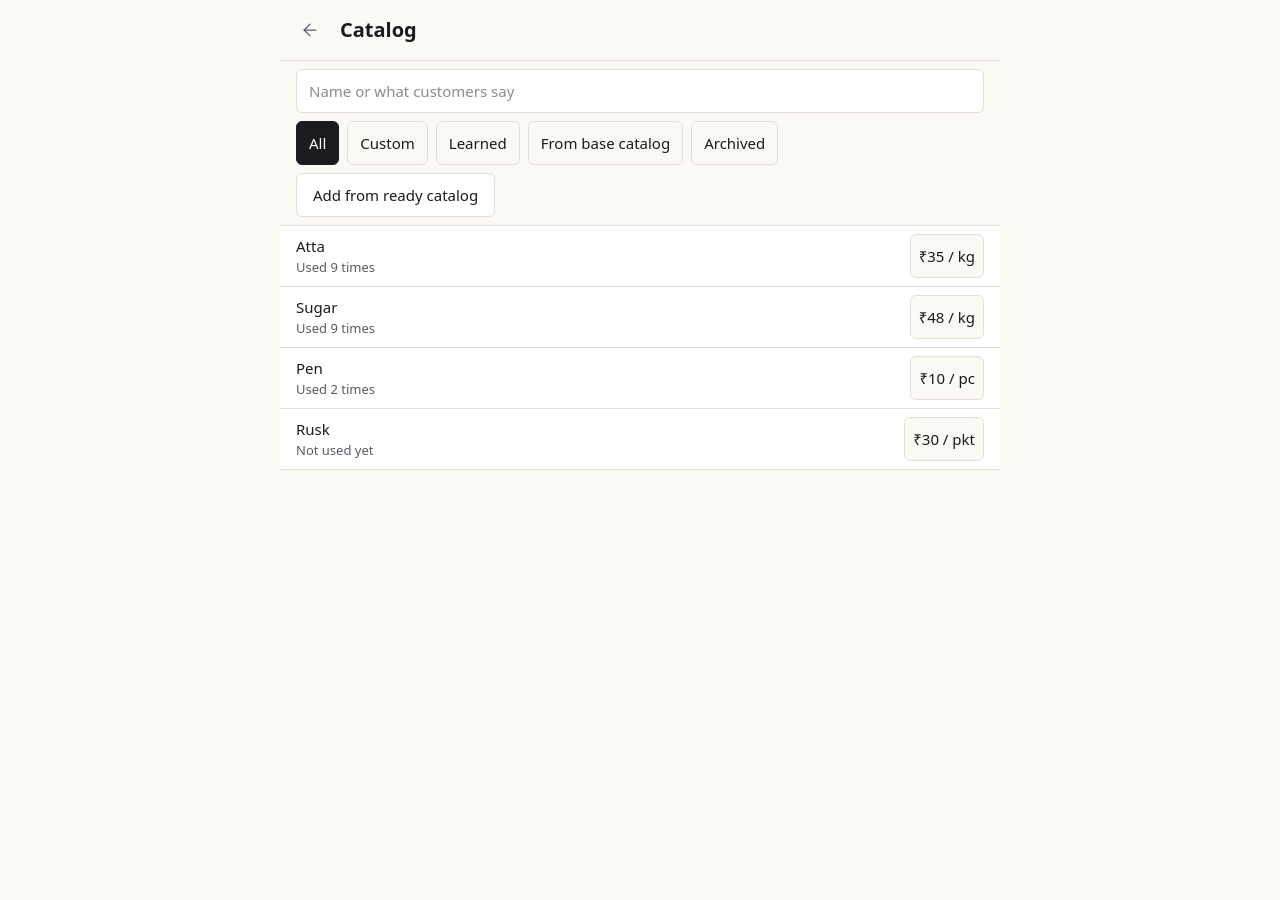
Test: KB-311 - S4 Catalog › a failed save says so and the price stays as it was - the screen never writes the price itself
This screenshot has width=1280, height=900.
Expected: the list named "Products" is shown, x1=280 y1=226 x2=1000 y2=470
Click the button with aria-label "Price of Sugar" at [947, 317], box x1=910 y1=295 x2=984 y2=339
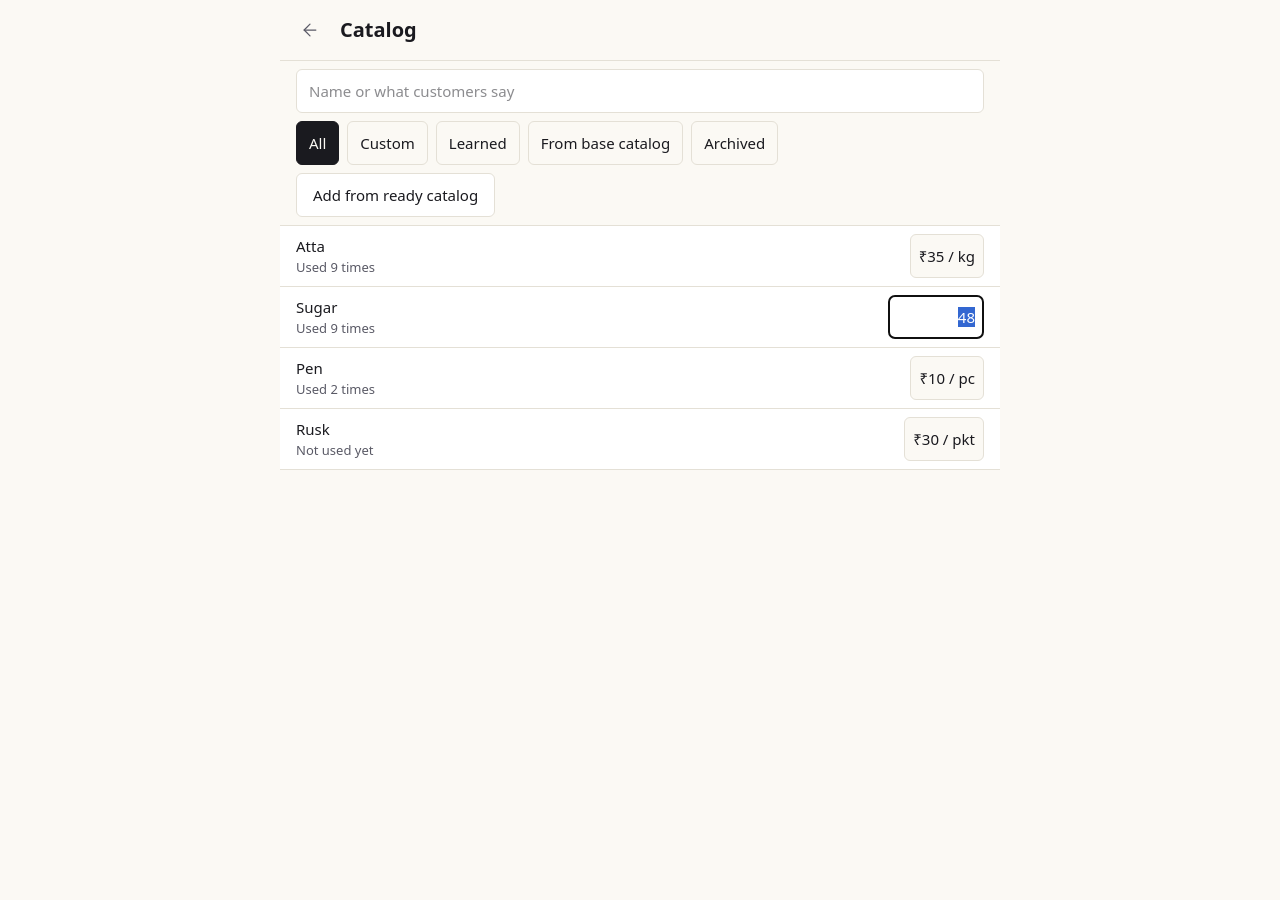
Replace the text in the field named "Price of Sugar" with "60" at [936, 317], box x1=888 y1=295 x2=984 y2=339
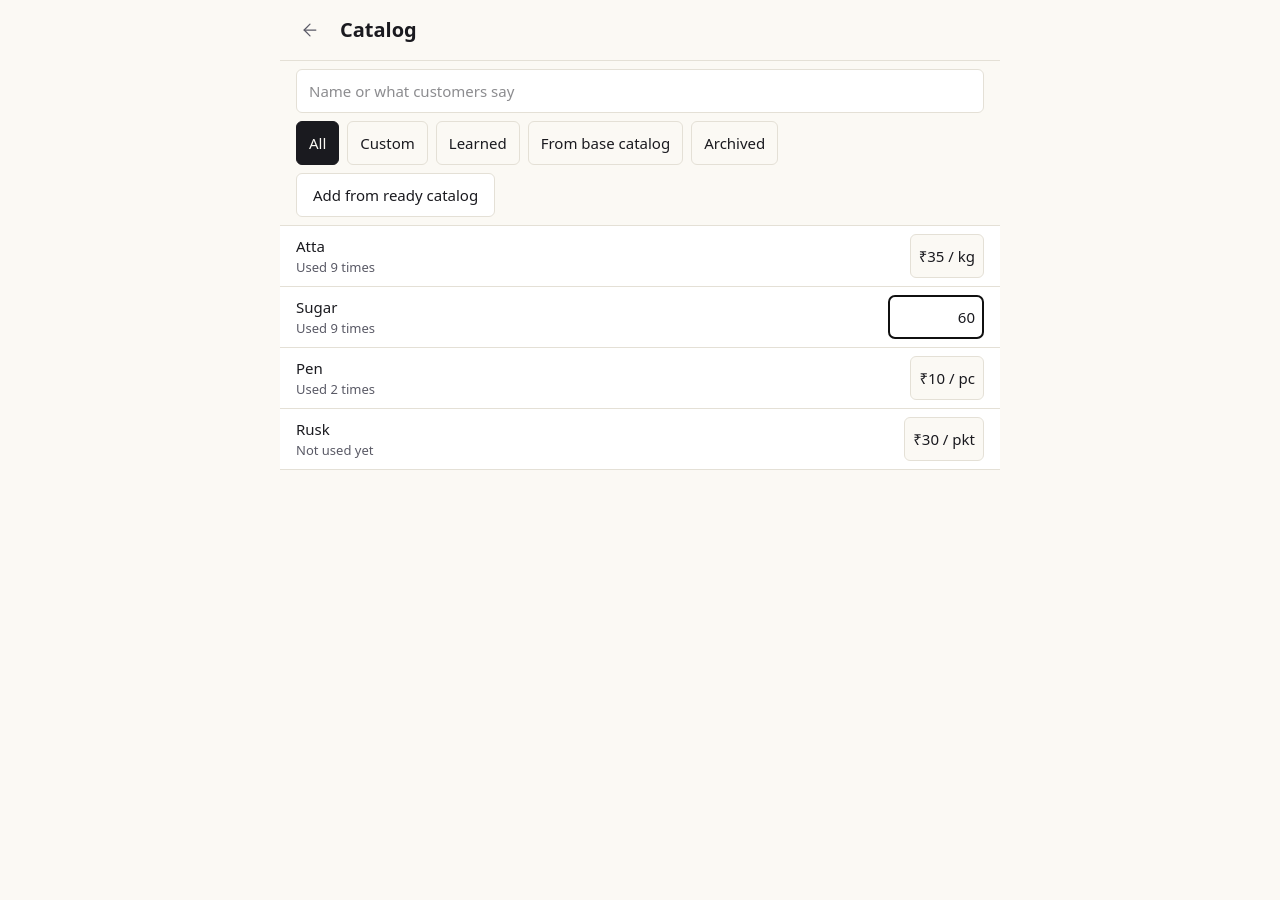
Press Enter in the field named "Price of Sugar", box x1=888 y1=295 x2=984 y2=339
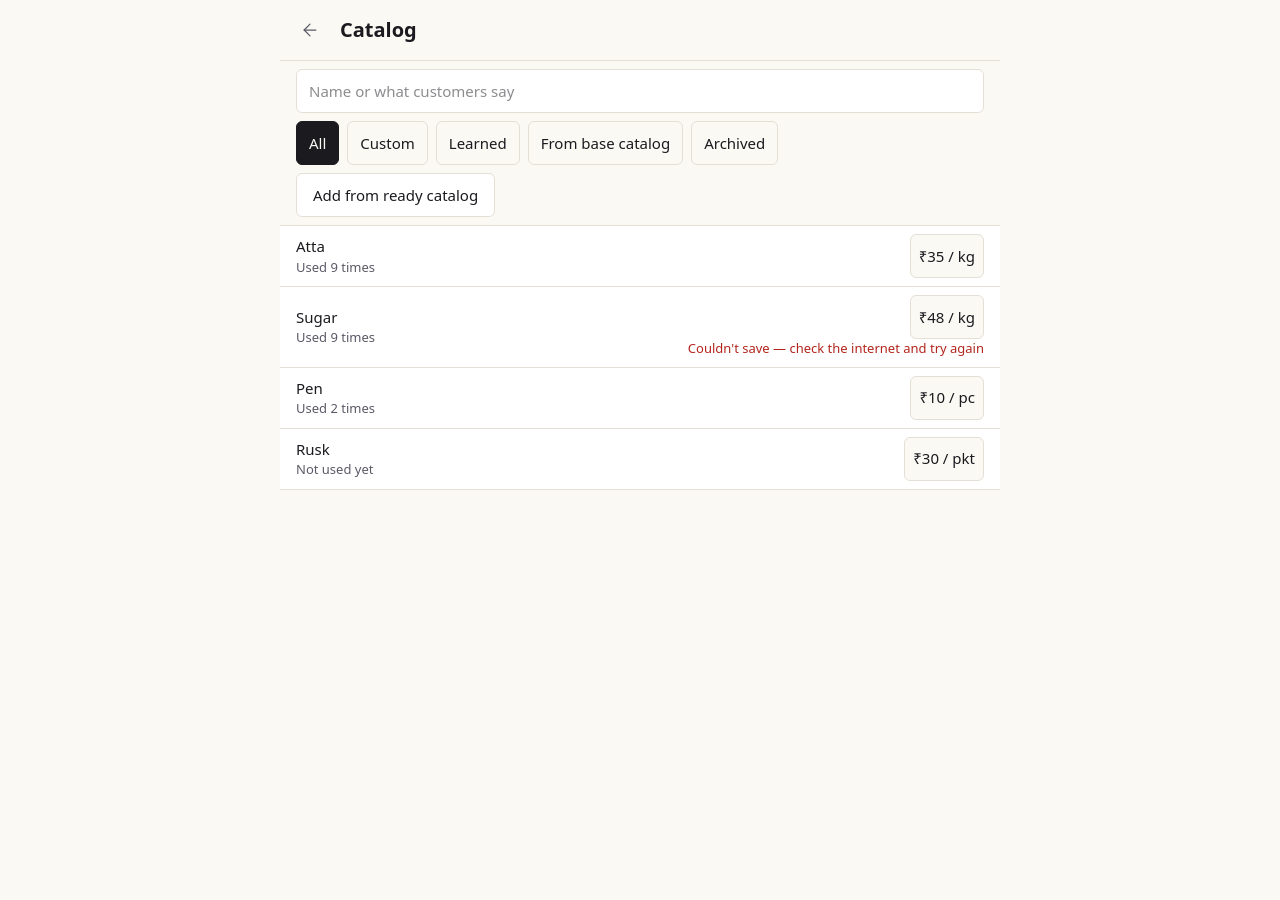
Now the message reads "Couldn't save — check the internet and try again", box x1=688 y1=339 x2=984 y2=357
Now the list item that starts with "Sugar" shows "₹48 / kg", box x1=910 y1=295 x2=984 y2=339
